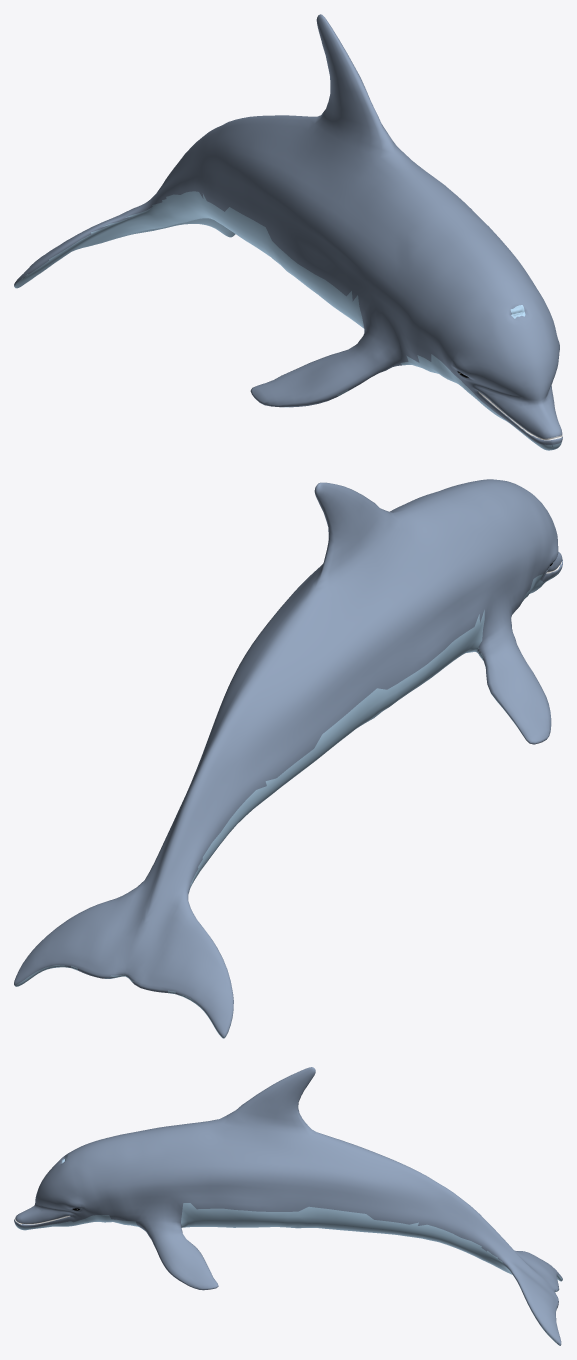
The model's file is dolphin.fbx.
3 renders of one model, top to bottom at view 1: azimuth 30°, elevation 25°; view 2: azimuth 150°, elevation 25°; view 3: azimuth 270°, elevation 25°, orthographic. The views are drawn at different scales.
Visible parts, largest first — view 1: Object_35; view 2: Object_35; view 3: Object_35.
Boxes of the visible parts, left/top/right/bottom form: Object_35: left=14, top=14, right=562, bottom=450; Object_35: left=14, top=479, right=562, bottom=1038; Object_35: left=14, top=1067, right=562, bottom=1345.
Size of the model in its own units: 345 by 445 by 902.
1 material, 1 textured.
